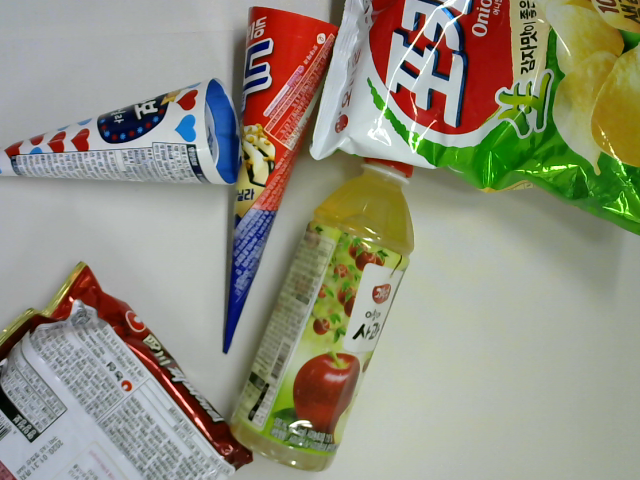Bravo_Cone_(Banila)_CVS: (1, 74, 247, 200)
Morning_Apple_500ml: (223, 133, 419, 479)
Pocachip_Onion: (287, 1, 640, 239)
Sichuan_Chapaghetti: (1, 250, 264, 479)
World_Cone_Banila: (218, 1, 345, 358)
